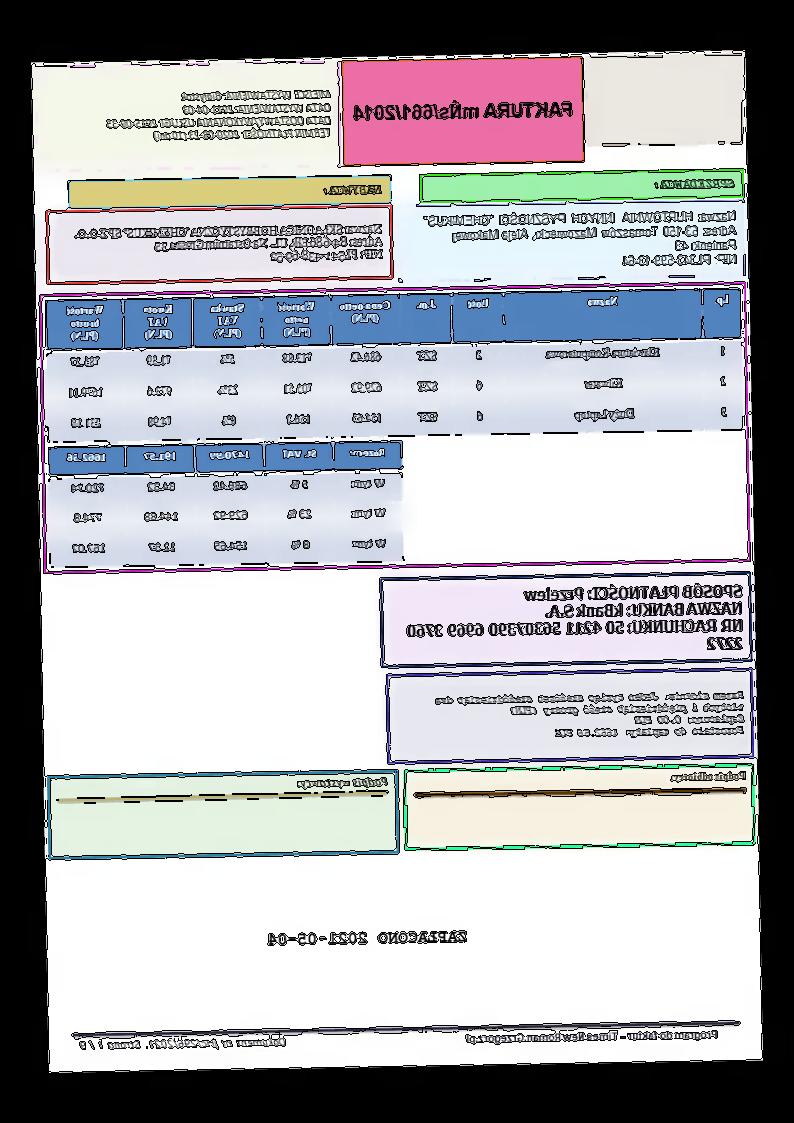Table: (45, 287, 744, 444), (47, 439, 406, 569)
TextBox: (406, 581, 746, 658), (421, 207, 739, 273), (433, 687, 747, 742), (72, 220, 385, 268), (104, 87, 333, 143), (351, 97, 574, 123), (465, 1028, 720, 1047), (266, 927, 469, 949), (79, 1035, 288, 1053), (295, 775, 390, 791), (671, 768, 747, 784), (653, 177, 736, 191), (322, 183, 384, 197)
